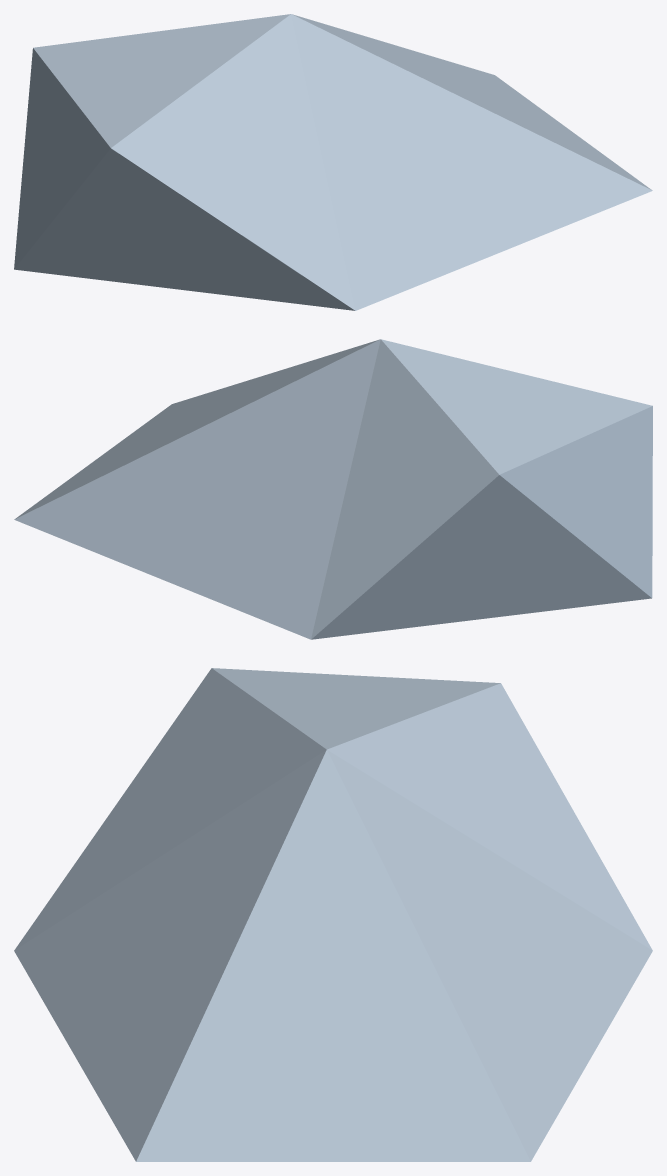
Rendered from Icemound2_Alt3.fbx.
3 renders of one model, top to bottom at view 1: azimuth 30°, elevation 25°; view 2: azimuth 150°, elevation 25°; view 3: azimuth 270°, elevation 25°, orthographic. The views are drawn at different scales.
Parts seen in each view (by area): view 1: Icemound2_Alt3; view 2: Icemound2_Alt3; view 3: Icemound2_Alt3.
Boxes of the visible parts, left/top/right/bottom form: Icemound2_Alt3: left=14, top=14, right=652, bottom=310; Icemound2_Alt3: left=14, top=339, right=652, bottom=639; Icemound2_Alt3: left=14, top=668, right=652, bottom=1161.
Bounding box in the file's own units: 1.46 × 0.4751 × 1.16.
